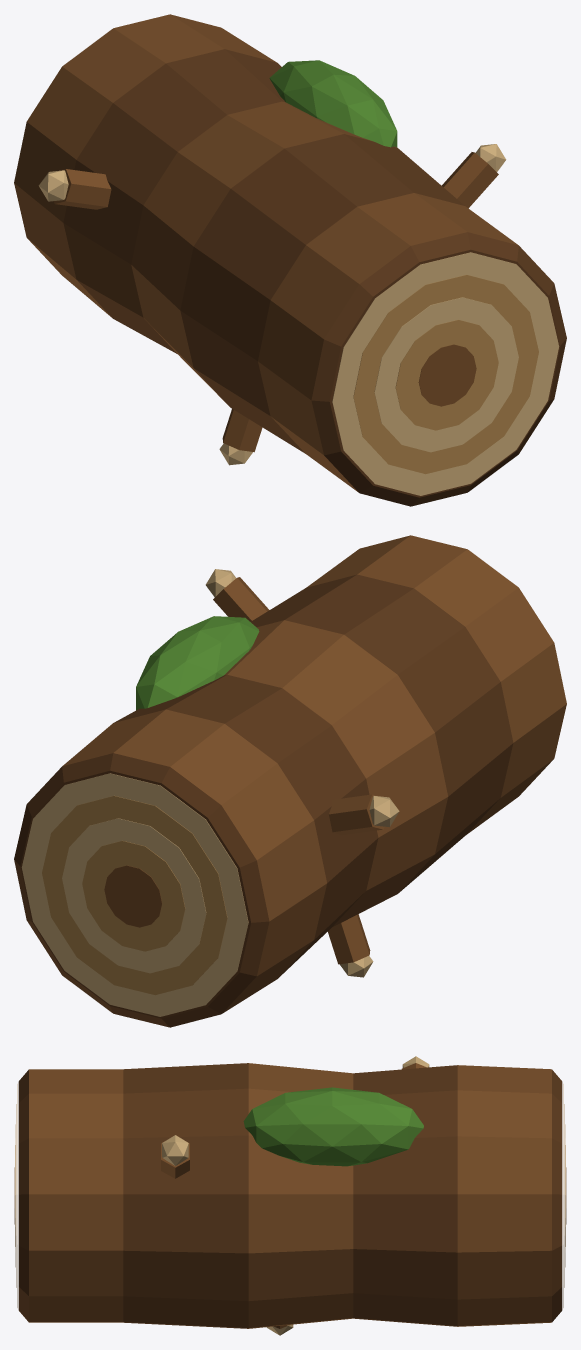
Rendered from hazard-log.glb.
3 renders of one model, top to bottom at view 1: azimuth 30°, elevation 25°; view 2: azimuth 150°, elevation 25°; view 3: azimuth 270°, elevation 25°, orthographic. The views are drawn at different scales.
Parts seen in each view (by area): view 1: hazard-log; view 2: hazard-log; view 3: hazard-log.
Boxes of the visible parts, x1=… form: hazard-log: x1=14, y1=14, x2=566, y2=506; hazard-log: x1=14, y1=535, x2=566, y2=1027; hazard-log: x1=14, y1=1056, x2=566, y2=1335.
Bounding box in the file's own units: 1.56 × 1.56 × 2.64.
